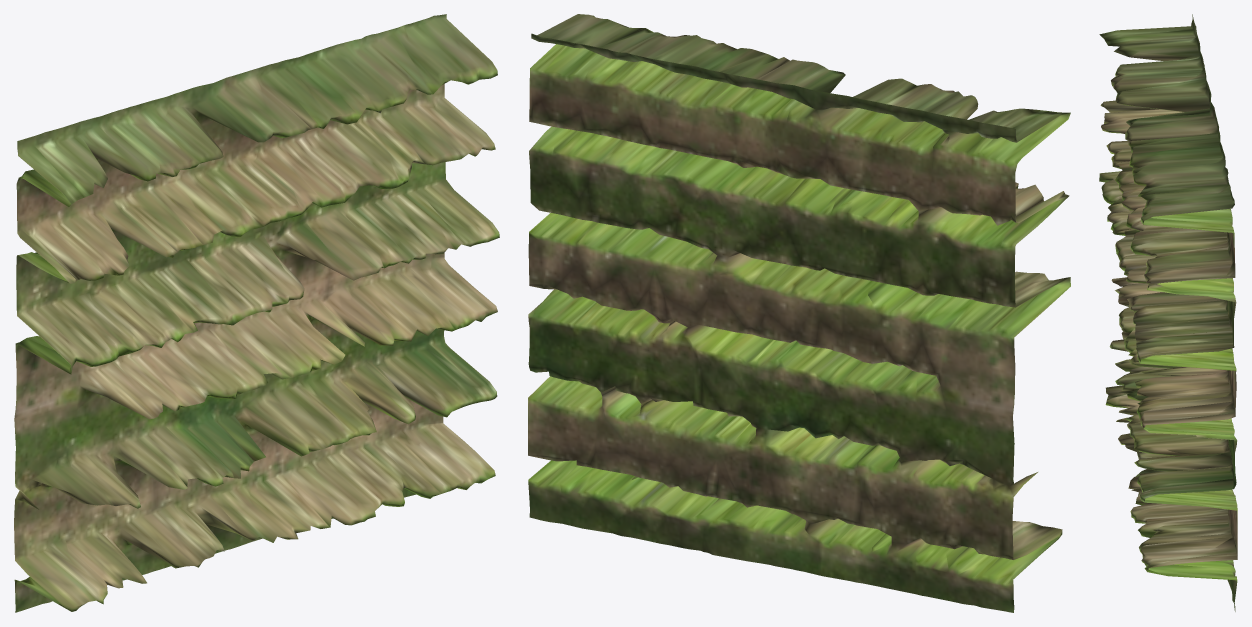
The model's file is map_230_70.obj.
3 views of the same model, side by side, from view 1: azimuth 30°, elevation 25°; view 2: azimuth 150°, elevation 25°; view 3: azimuth 270°, elevation 25° (orthographic). The views are drawn at different scales.
Visible parts, largest first — view 1: map_230_70.obj; view 2: map_230_70.obj; view 3: map_230_70.obj.
Boxes of the visible parts, <box> form: map_230_70.obj: <box>14,14,499,612</box>; map_230_70.obj: <box>528,14,1070,612</box>; map_230_70.obj: <box>1099,14,1237,611</box>.
Bounding box in the file's own units: 10 × 10 × 3.07.
Materials: 1 (1 with a texture image).
